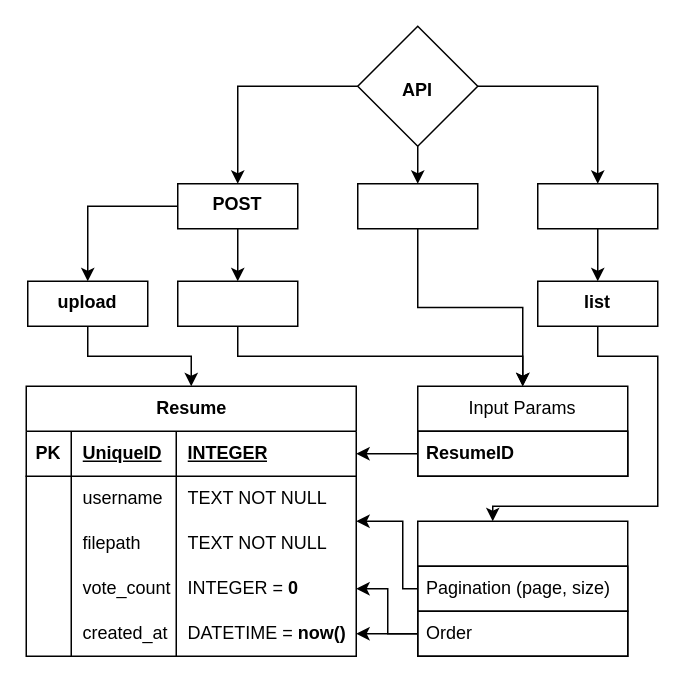
Some shapes in this 696 by 690 pixel diagram are drawn without their labels. Each missing label, with the box of its shape:
DELETE: (356, 182, 478, 229)
GET: (536, 182, 658, 229)
Query Params: (416, 520, 628, 656)
vote: (176, 280, 298, 326)
